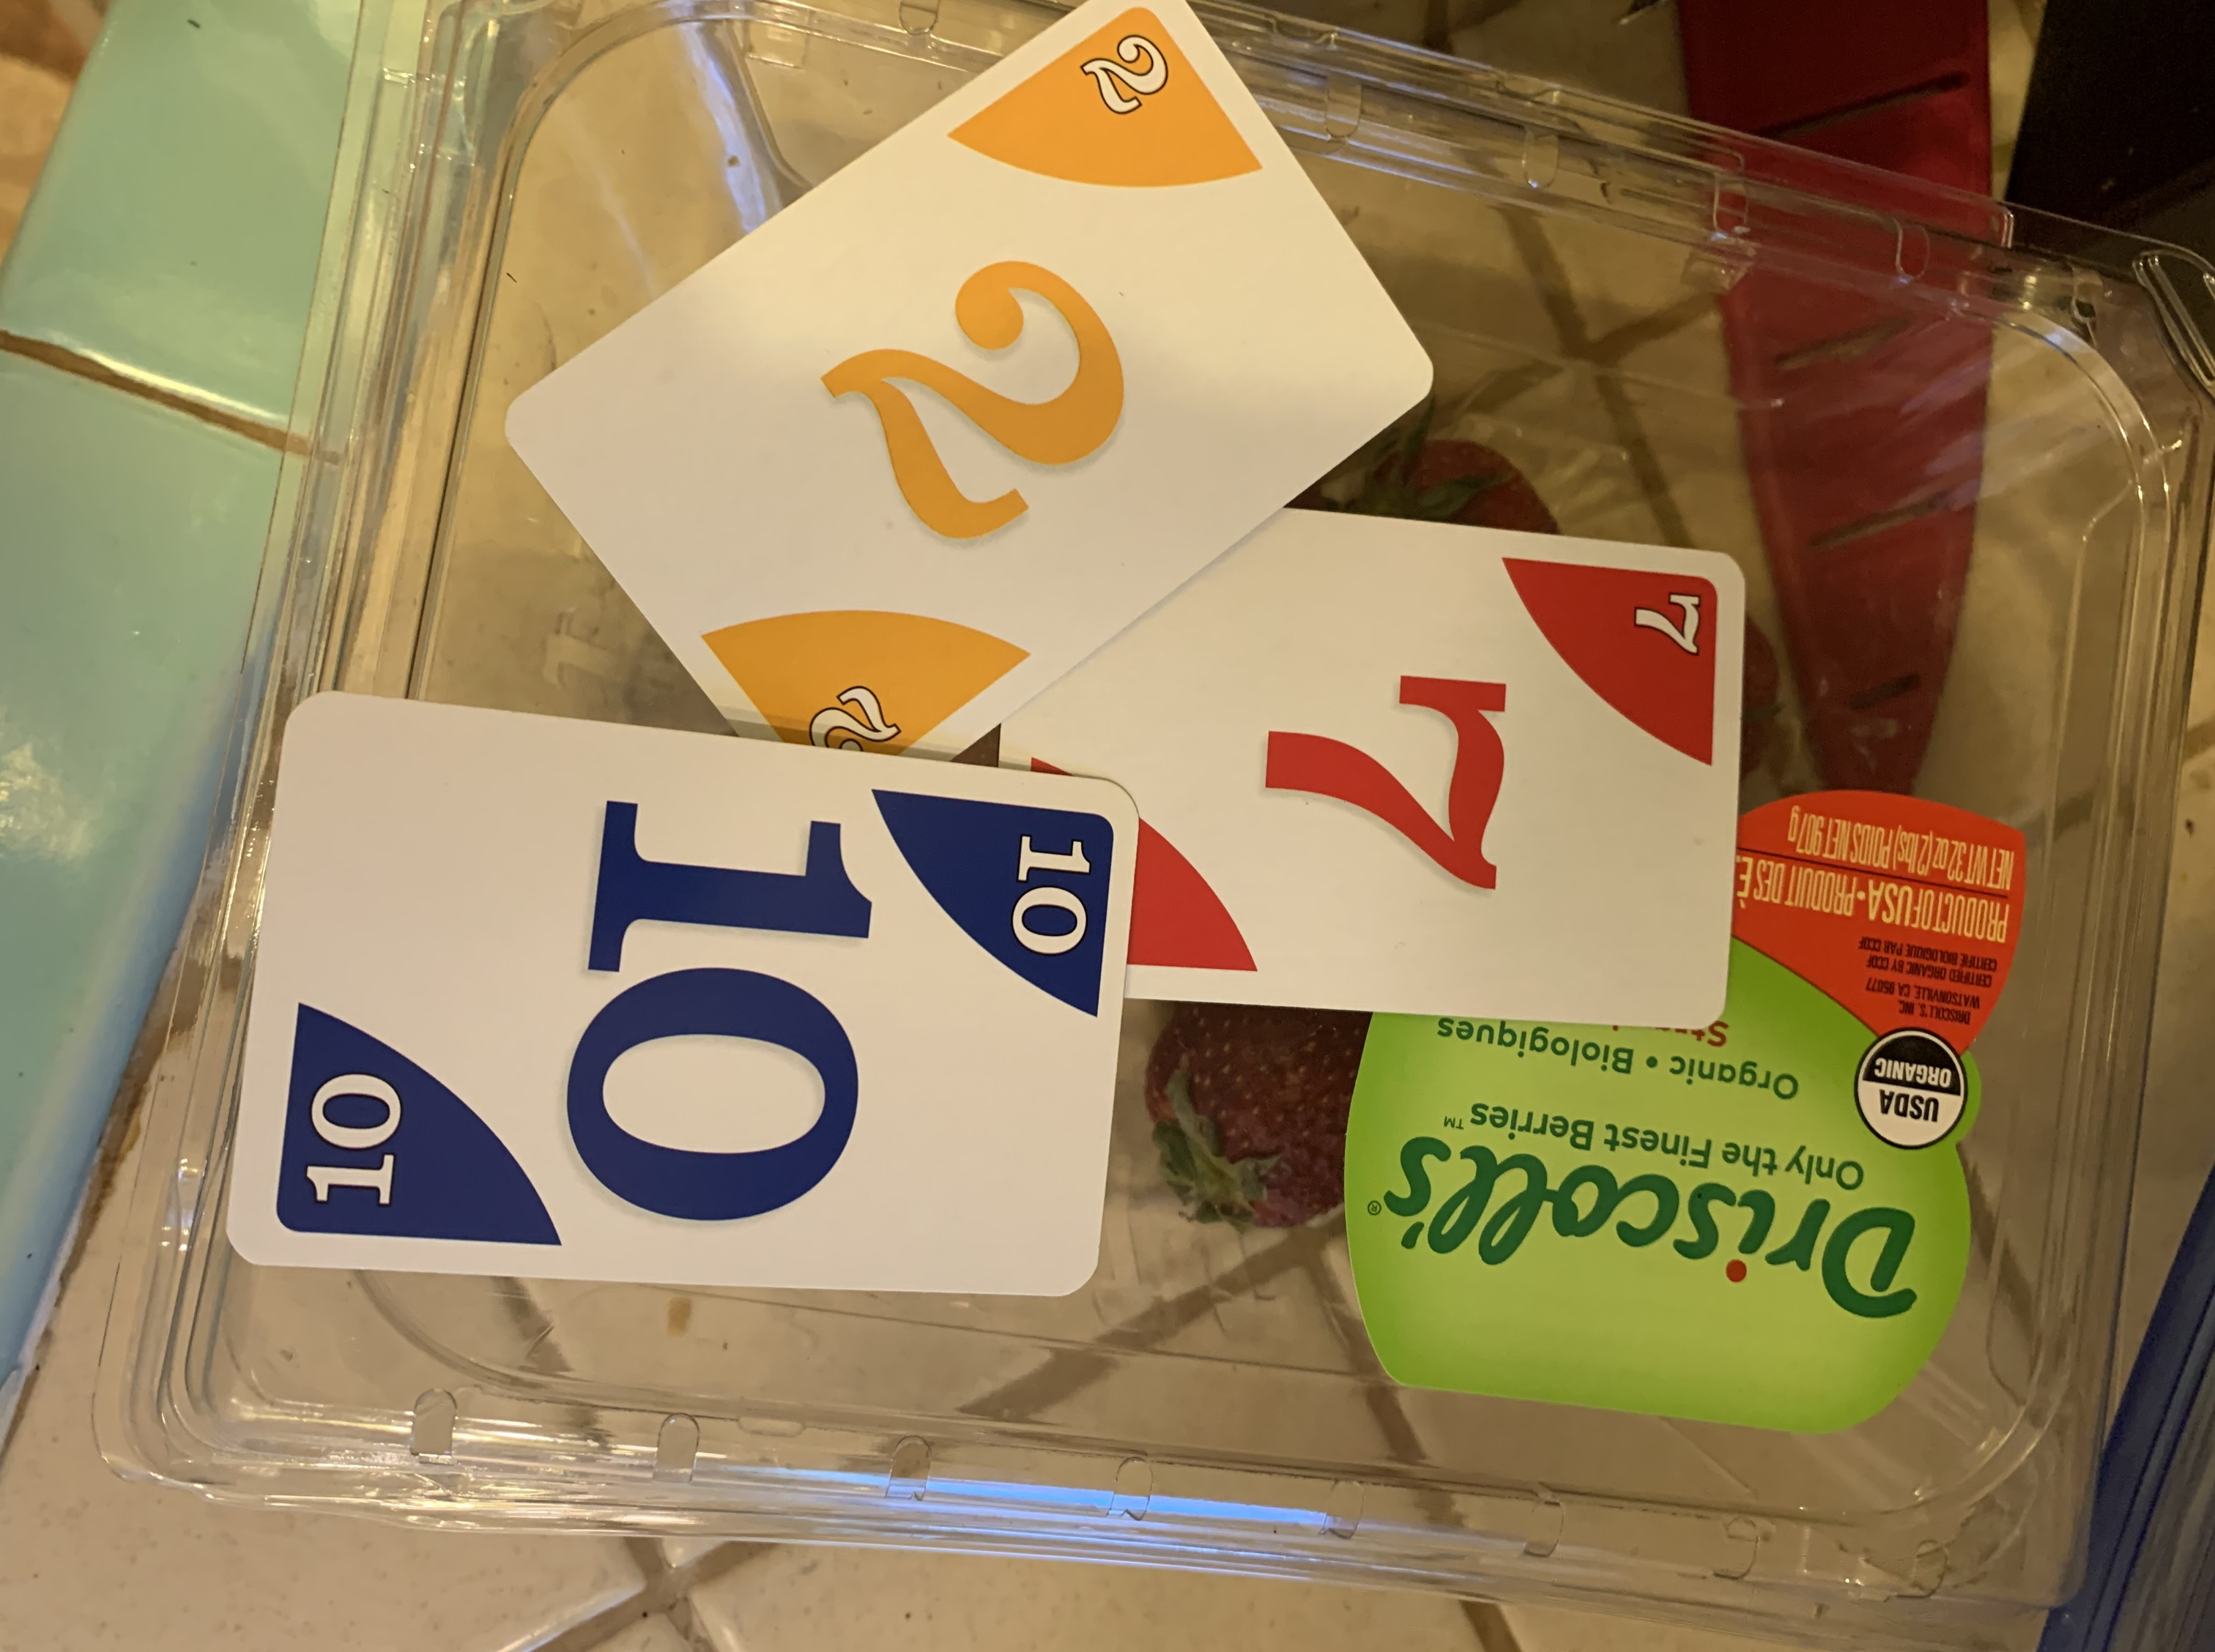two: (493, 0, 1453, 831)
